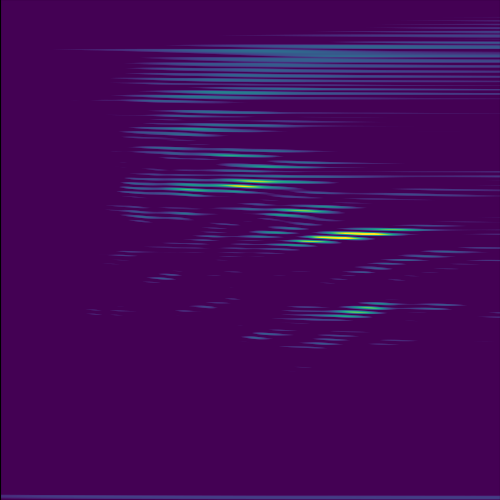semblance: (279, 223, 426, 249), (200, 173, 288, 193), (260, 201, 351, 217)
